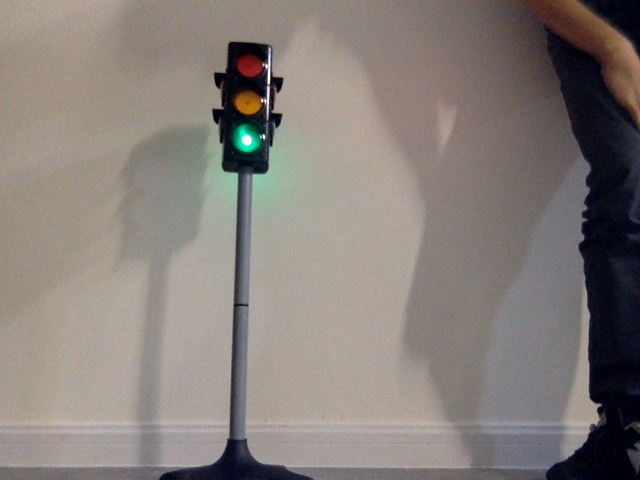green: (227, 53, 264, 158)
